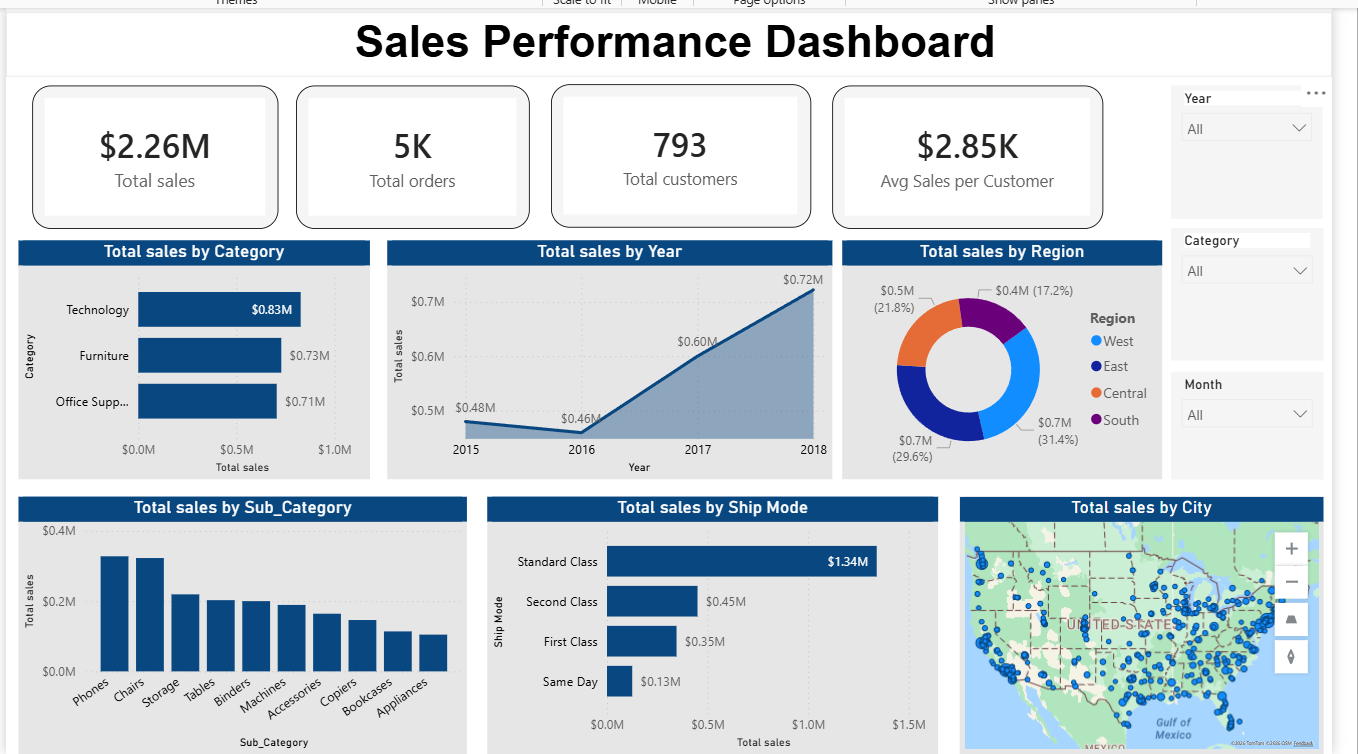

What the dashboard file says about the page in this screenshot:
{"tool":"powerbi","page":{"name":"Page 1","canvas":[1280,720],"ordinal":0},"visuals":[{"type":"cardVisual","fields":{"Data":["Table.Total customers"]},"box":[526,73.6,250.9,138.7],"z":0},{"type":"cardVisual","fields":{"Data":["Table.Total orders"]},"box":[279.9,74.8,225.6,138.7],"z":1000},{"type":"cardVisual","fields":{"Data":["Table.Total sales"]},"box":[25.3,74.8,237.7,138.7],"z":2000},{"type":"barChart","fields":{"Category":["superstore_data.Category"],"Y":["Table.Total sales"]},"box":[12.1,224.4,339,230.4],"z":3000},{"type":"columnChart","fields":{"Category":["superstore_data.Sub_Category"],"Y":["Table.Total sales"]},"box":[12.1,471.7,433.1,248.5],"z":4000},{"type":"lineChart","fields":{"Category":["superstore_data.Order Date.Variation.Date Hierarchy.Year","superstore_data.Order Date.Variation.Date Hierarchy.Quarter","superstore_data.Order Date.Variation.Date Hierarchy.Month","superstore_data.Order Date.Variation.Date Hierarchy.Day"],"Y":["Table.Total sales"]},"box":[368,224.4,429.5,230.4],"z":5000},{"type":"donutChart","fields":{"Category":["superstore_data.Region"],"Y":["Table.Total sales"]},"box":[807.1,224.4,308.8,230.4],"z":6000},{"type":"azureMap","fields":{"Category":["superstore_data.City"],"Size":["Table.Total sales"]},"box":[920.5,471.7,351.1,248.5],"z":7000},{"type":"barChart","fields":{"Category":["superstore_data.Ship Mode"],"Y":["Table.Total sales"]},"box":[464.5,471.7,435.5,248.5],"z":8000},{"type":"slicer","fields":{"Values":["superstore_data.Month"]},"box":[1124.4,351.1,147.2,103.8],"z":9000},{"type":"slicer","fields":{"Values":["superstore_data.Year"]},"box":[1125,75,146.2,128.8],"z":10000},{"type":"slicer","fields":{"Values":["superstore_data.Category"]},"box":[1124.4,212.3,147.2,127.9],"z":11000},{"type":"cardVisual","fields":{"Data":["Table.Avg Sales per Customer"]},"box":[797.5,74.8,261.8,138.7],"z":12000},{"type":"textbox","box":[0,3.6,1280,62.7],"z":13000}]}

Visuals, with their boxes on the page's 1280x720 design canvas (x1, y1, x2, y2). These are canvas units, not pixel positions in the 1358x754 screenshot, which may show the page scaled, cropped or inside an application window:
cardVisual - Table.Total customers: locate(526, 74, 777, 212)
cardVisual - Table.Total orders: locate(280, 75, 506, 214)
cardVisual - Table.Total sales: locate(25, 75, 263, 214)
barChart - superstore_data.Category x Table.Total sales: locate(12, 224, 351, 455)
columnChart - superstore_data.Sub_Category x Table.Total sales: locate(12, 472, 445, 720)
lineChart - superstore_data.Order Date.Variation.Date Hierarchy.Year x superstore_data.Order Date.Variation.Date Hierarchy.Quarter: locate(368, 224, 798, 455)
donutChart - superstore_data.Region x Table.Total sales: locate(807, 224, 1116, 455)
azureMap - superstore_data.City x Table.Total sales: locate(920, 472, 1272, 720)
barChart - superstore_data.Ship Mode x Table.Total sales: locate(464, 472, 900, 720)
slicer - superstore_data.Month: locate(1124, 351, 1272, 455)
slicer - superstore_data.Year: locate(1125, 75, 1271, 204)
slicer - superstore_data.Category: locate(1124, 212, 1272, 340)
cardVisual - Table.Avg Sales per Customer: locate(798, 75, 1059, 214)
textbox: locate(0, 4, 1280, 66)
